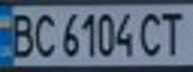0: (97, 9, 118, 57)
1: (78, 9, 96, 57)
4: (112, 9, 139, 57)
6: (57, 9, 81, 58)
B: (3, 9, 39, 60)
C: (136, 8, 169, 59), (30, 10, 60, 58)
T: (154, 7, 190, 57)
